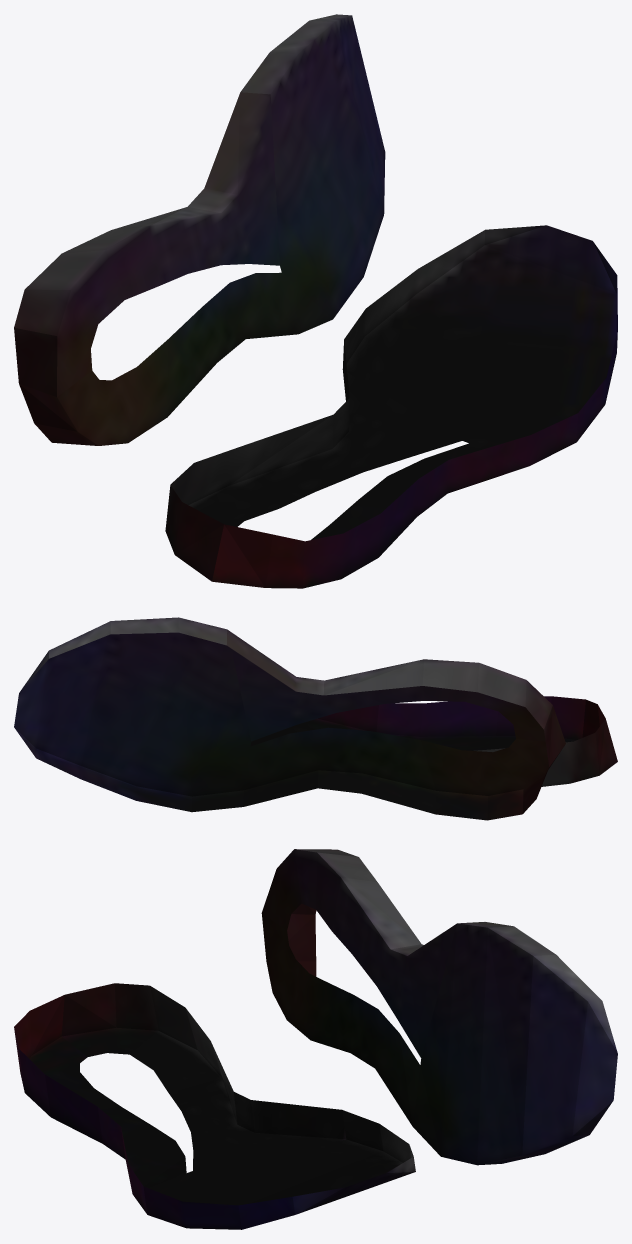
The model's file is pegasus_sole_outside.glb.
3 renders of one model, top to bottom at view 1: azimuth 30°, elevation 25°; view 2: azimuth 150°, elevation 25°; view 3: azimuth 270°, elevation 25°, orthographic. The views are drawn at different scales.
Parts seen in each view (by area): view 1: pegasus_sole_outside; view 2: pegasus_sole_outside; view 3: pegasus_sole_outside.
Part boxes in pixels (x1=…): pegasus_sole_outside: x1=14, y1=14, x2=617, y2=588; pegasus_sole_outside: x1=14, y1=617, x2=617, y2=820; pegasus_sole_outside: x1=14, y1=849, x2=617, y2=1229.
Bounding box in the file's own units: 2.67 × 1.24 × 2.61.
Materials: 1 (1 with a texture image).
